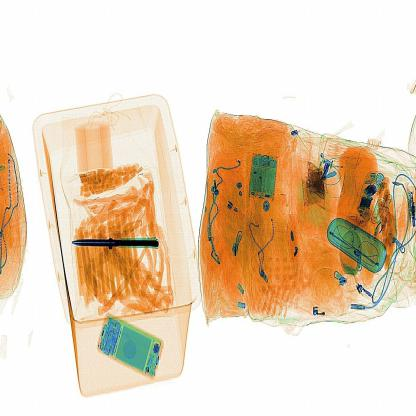gun: (71, 222, 163, 257)
